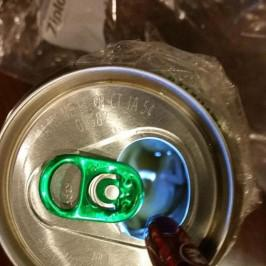beer: (1, 65, 237, 266)
